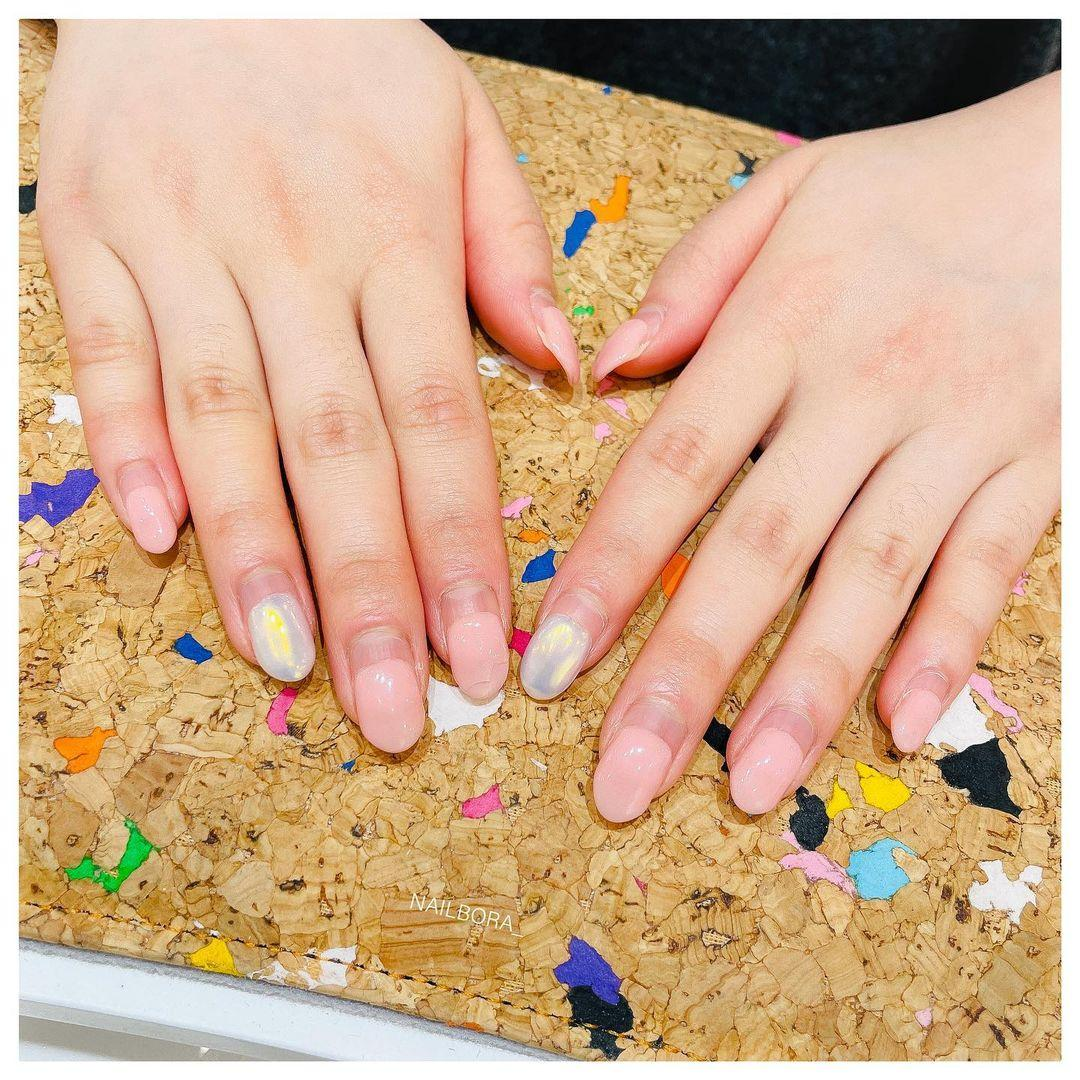nail: (347, 625, 426, 754), (235, 564, 316, 683), (726, 710, 813, 816), (438, 579, 509, 703), (591, 724, 673, 824), (517, 612, 592, 701), (114, 457, 177, 555), (527, 286, 582, 390), (889, 666, 950, 753)
